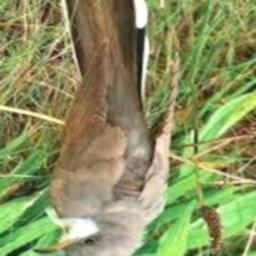Cuckoo: (33, 0, 172, 256)
